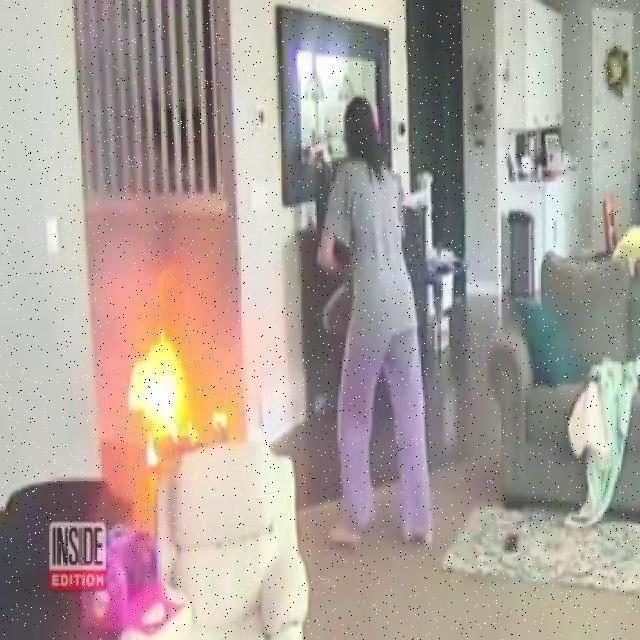smoke: (127, 324, 200, 452)
